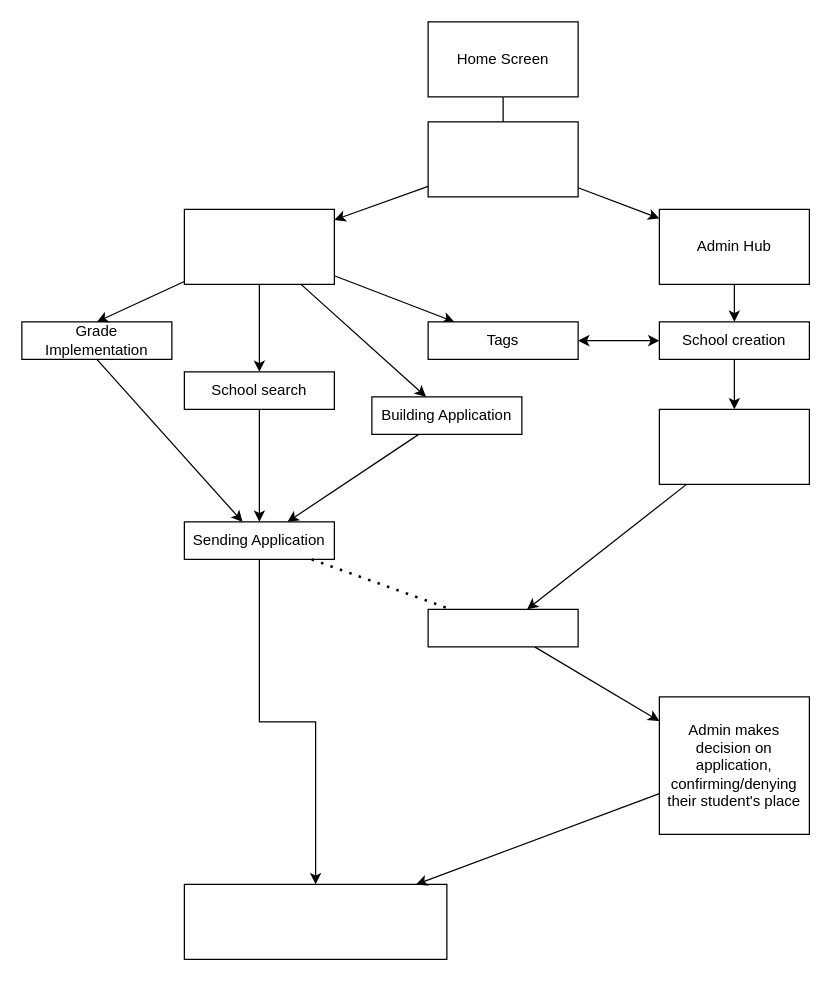
Some shapes in this 831 by 981 pixel diagram are drawn without their labels. The shapes that lost their labels are listed below. From the top down, each one's box as (x1, y1, x2, y2) in pixels, then its label:
(427, 121, 578, 197): Registration/Login
(183, 208, 334, 284): Student Hub
(658, 408, 809, 484): Build and finalise Application Program for school
(427, 608, 578, 647): Recieve Applications
(183, 883, 447, 959): Student receives response from school, confirming/denying their place
